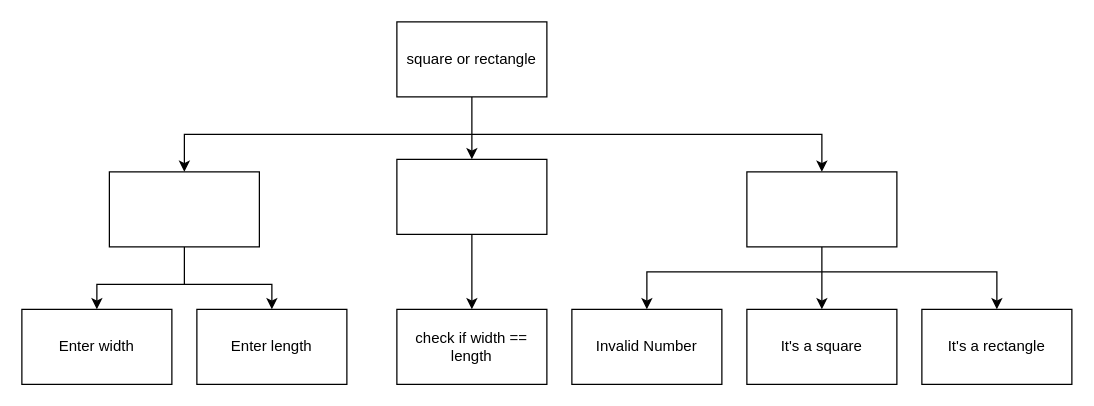
This 1094x406 diagram has some shape labels left out. Each missing label, with the centre of its shape:
Input: point 183,209
Output: point 821,209
Process: point 471,196
